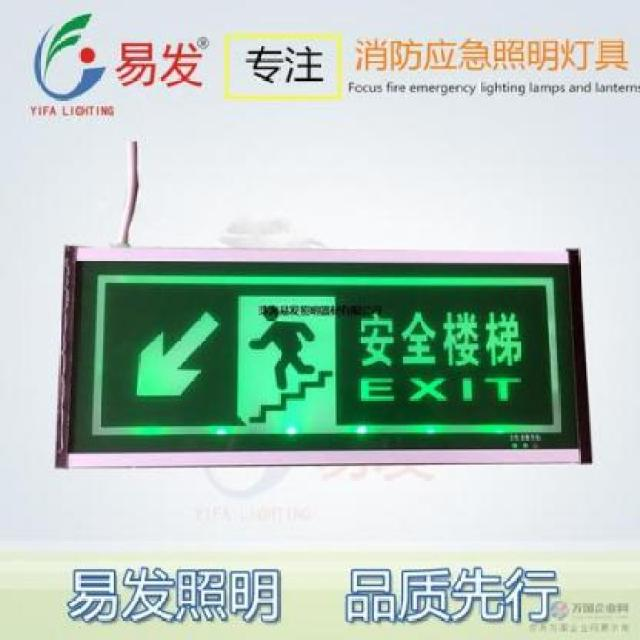exit_sign: (62, 243, 576, 449)
